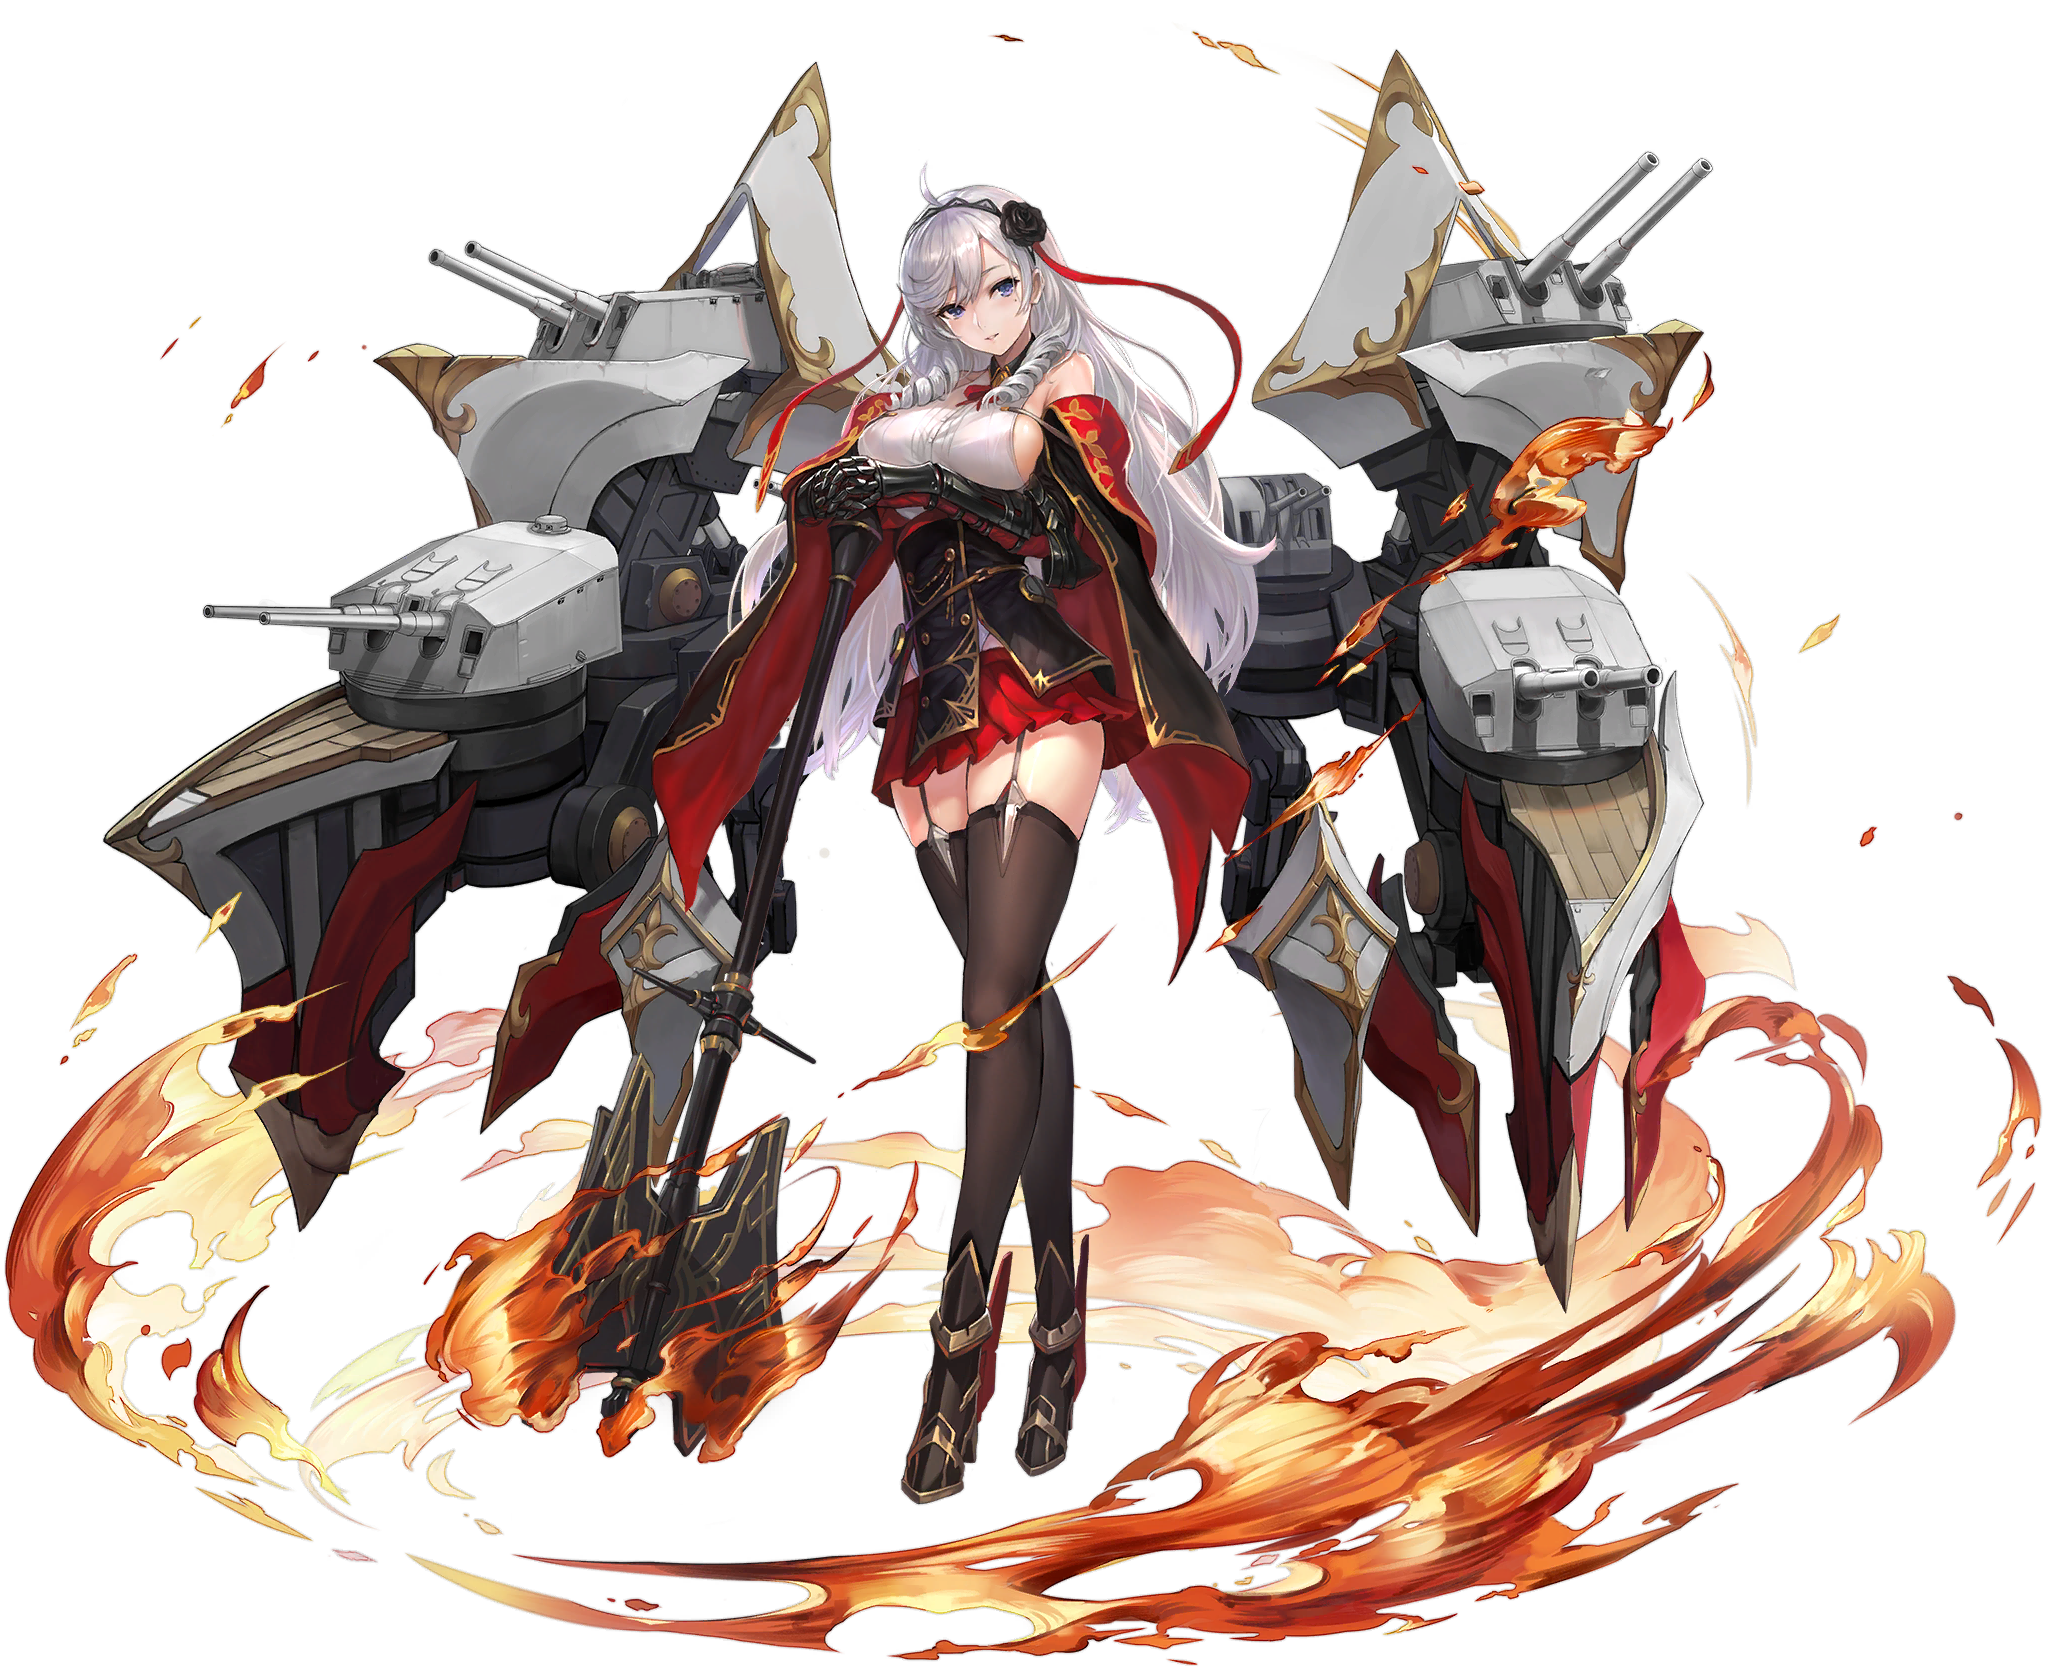person: (731, 190, 1216, 989)
